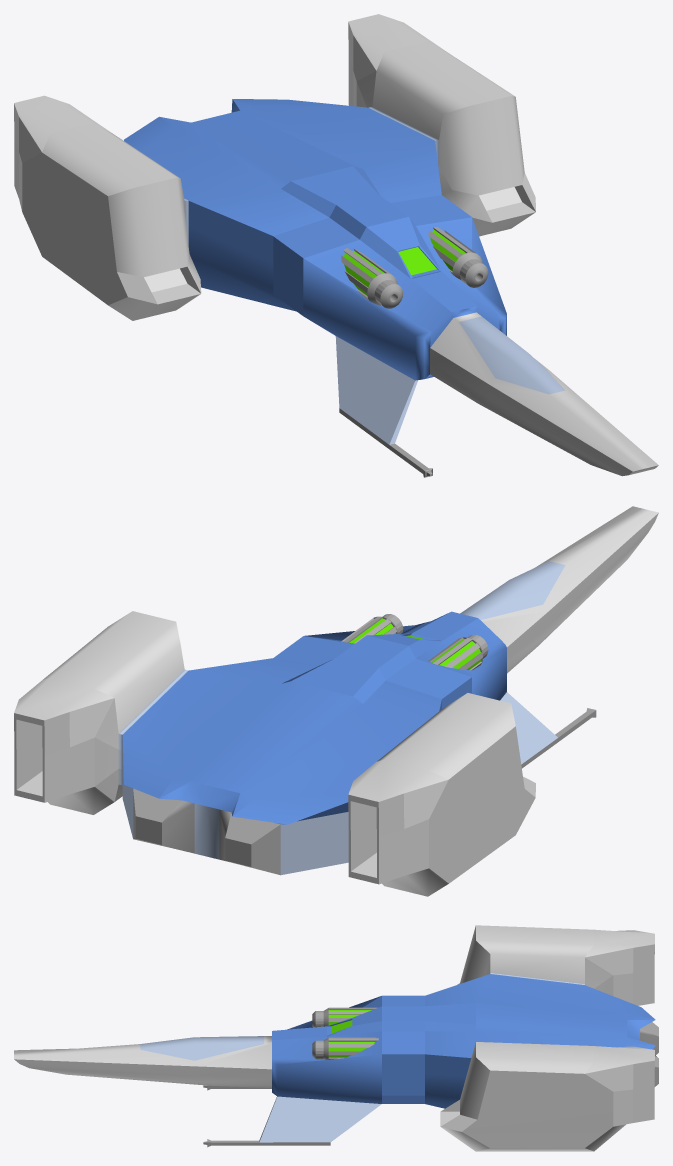
The model's file is playership_01_incolor_04.fbx.
3 views of the same model, one above another, from view 1: azimuth 30°, elevation 25°; view 2: azimuth 150°, elevation 25°; view 3: azimuth 270°, elevation 25° (orthographic). The views are drawn at different scales.
Parts seen in each view (by area): view 1: polySurface1; view 2: polySurface1; view 3: polySurface1.
Part boxes in pixels (left/top/right/bottom): polySurface1: left=14, top=14, right=658, bottom=477; polySurface1: left=14, top=506, right=658, bottom=896; polySurface1: left=14, top=925, right=658, bottom=1151.
Bounding box in the file's own units: 11.08 × 4.6 × 21.29.
